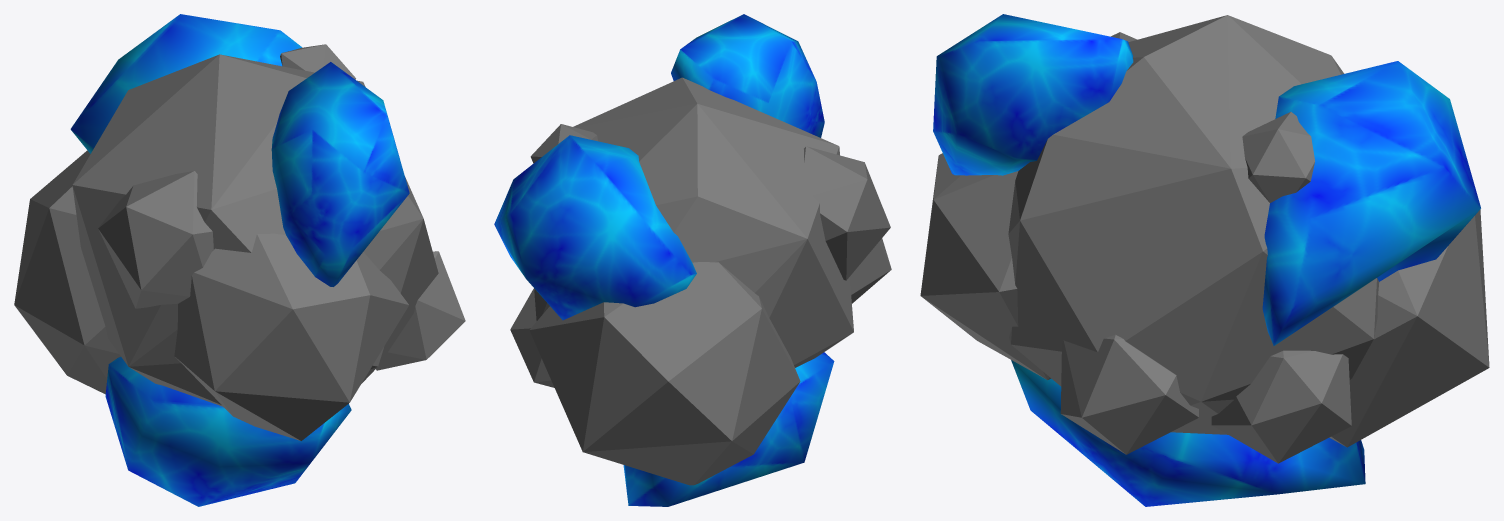
Rendered from WindstoneOre_blender.fbx.
3 renders of one model, left to right at view 1: azimuth 30°, elevation 25°; view 2: azimuth 150°, elevation 25°; view 3: azimuth 270°, elevation 25°, orthographic. The views are drawn at different scales.
Parts seen in each view (by area): view 1: StoneOre.033, WindstoneParticle.034; view 2: StoneOre.033, WindstoneParticle.034; view 3: StoneOre.033, WindstoneParticle.034.
Boxes of the visible parts, x1,y1,x2,y2 form: StoneOre.033: (14,44,465,440); WindstoneParticle.034: (70,14,409,506); StoneOre.033: (510,77,891,485); WindstoneParticle.034: (494,14,834,506); StoneOre.033: (920,15,1489,463); WindstoneParticle.034: (933,14,1480,506).
Size of the model in its own units: 216 by 256 by 274.
